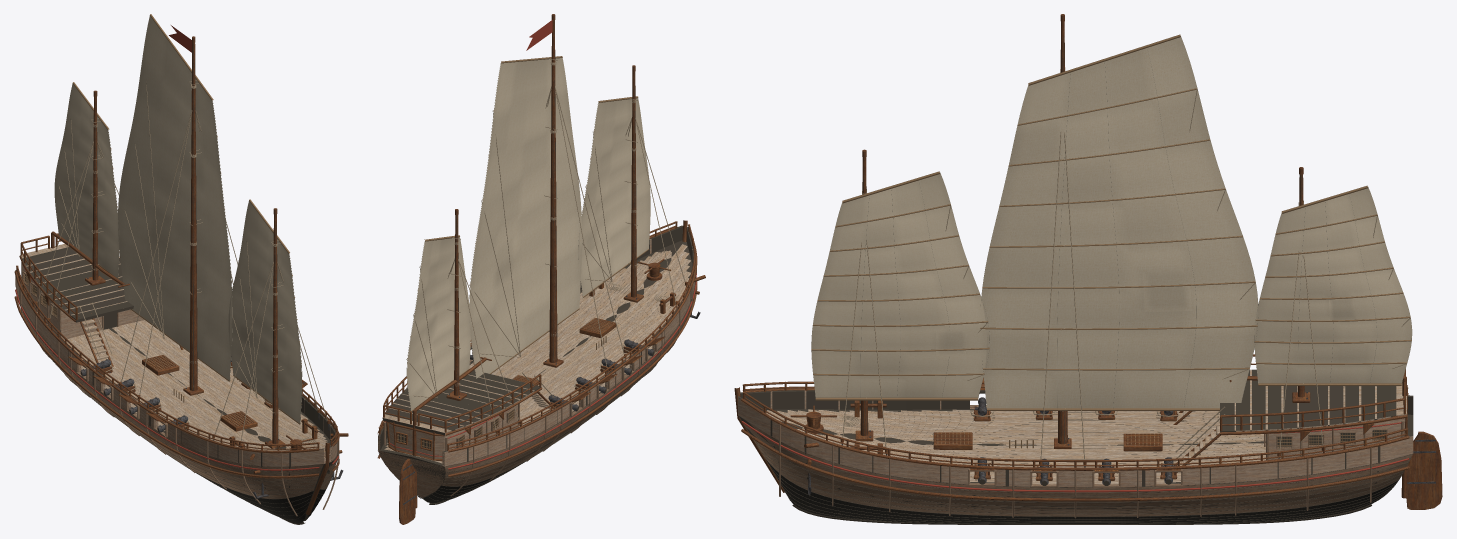
The model's file is fuchuan-lod0.glb.
The picture shows the model from 3 angles, left to right: view 1: azimuth 30°, elevation 25°; view 2: azimuth 150°, elevation 25°; view 3: azimuth 270°, elevation 25°; orthographic projection. The views are drawn at different scales.
Visible parts, largest first — view 1: sail_1, hull, deck, sail_0, sail_2, shadow_deck, deck_fittings, bulwark_rails, mast_timber_1, shadow_hull, sterncastle, mast_timber_0 (+8 smaller); view 2: sail_1, deck, hull, sail_0, sail_2, shadow_deck, deck_fittings, shadow_hull, bulwark_rails, mast_timber_1, mast_timber_0, stern_transom (+9 smaller); view 3: sail_1, hull, sail_0, sail_2, deck, shadow_hull, shadow_deck, bulwark_rails, deck_fittings, rudder_blade, sterncastle, rigging_1.
Boxes of the visible parts, <box> form: sail_1: <box>118,14,232,381</box>; hull: <box>14,270,339,524</box>; deck: <box>19,244,330,450</box>; sail_0: <box>228,199,302,424</box>; sail_2: <box>54,82,119,278</box>; shadow_deck: <box>22,247,133,322</box>; deck_fittings: <box>21,262,348,498</box>; bulwark_rails: <box>16,233,338,452</box>; mast_timber_1: <box>189,43,197,390</box>; shadow_hull: <box>15,270,337,521</box>; sterncastle: <box>23,266,144,339</box>; mast_timber_0: <box>272,214,278,443</box>; sail_1: <box>469,56,582,378</box>; deck: <box>382,244,690,463</box>; hull: <box>377,220,697,504</box>; sail_0: <box>578,96,650,297</box>; sail_2: <box>406,235,470,411</box>; shadow_deck: <box>383,370,540,435</box>; deck_fittings: <box>383,259,705,461</box>; shadow_hull: <box>378,225,695,502</box>; bulwark_rails: <box>378,221,695,451</box>; mast_timber_1: <box>549,20,557,362</box>; mast_timber_0: <box>631,71,636,297</box>; stern_transom: <box>388,423,444,458</box>; sail_1: <box>980,34,1258,410</box>; hull: <box>734,387,1413,524</box>; sail_0: <box>811,171,989,400</box>; sail_2: <box>1254,185,1412,386</box>; deck: <box>766,369,1407,484</box>; shadow_hull: <box>738,390,1413,523</box>; shadow_deck: <box>1220,369,1396,432</box>; bulwark_rails: <box>742,354,1408,467</box>; deck_fittings: <box>790,385,1407,494</box>; rudder_blade: <box>1406,431,1442,509</box>; sterncastle: <box>1266,418,1404,460</box>; rigging_1: <box>1039,132,1086,473</box>.
Bounding box in the file's own units: 10.4 × 26.65 × 33.55.
Materials: 13 (8 with a texture image).
